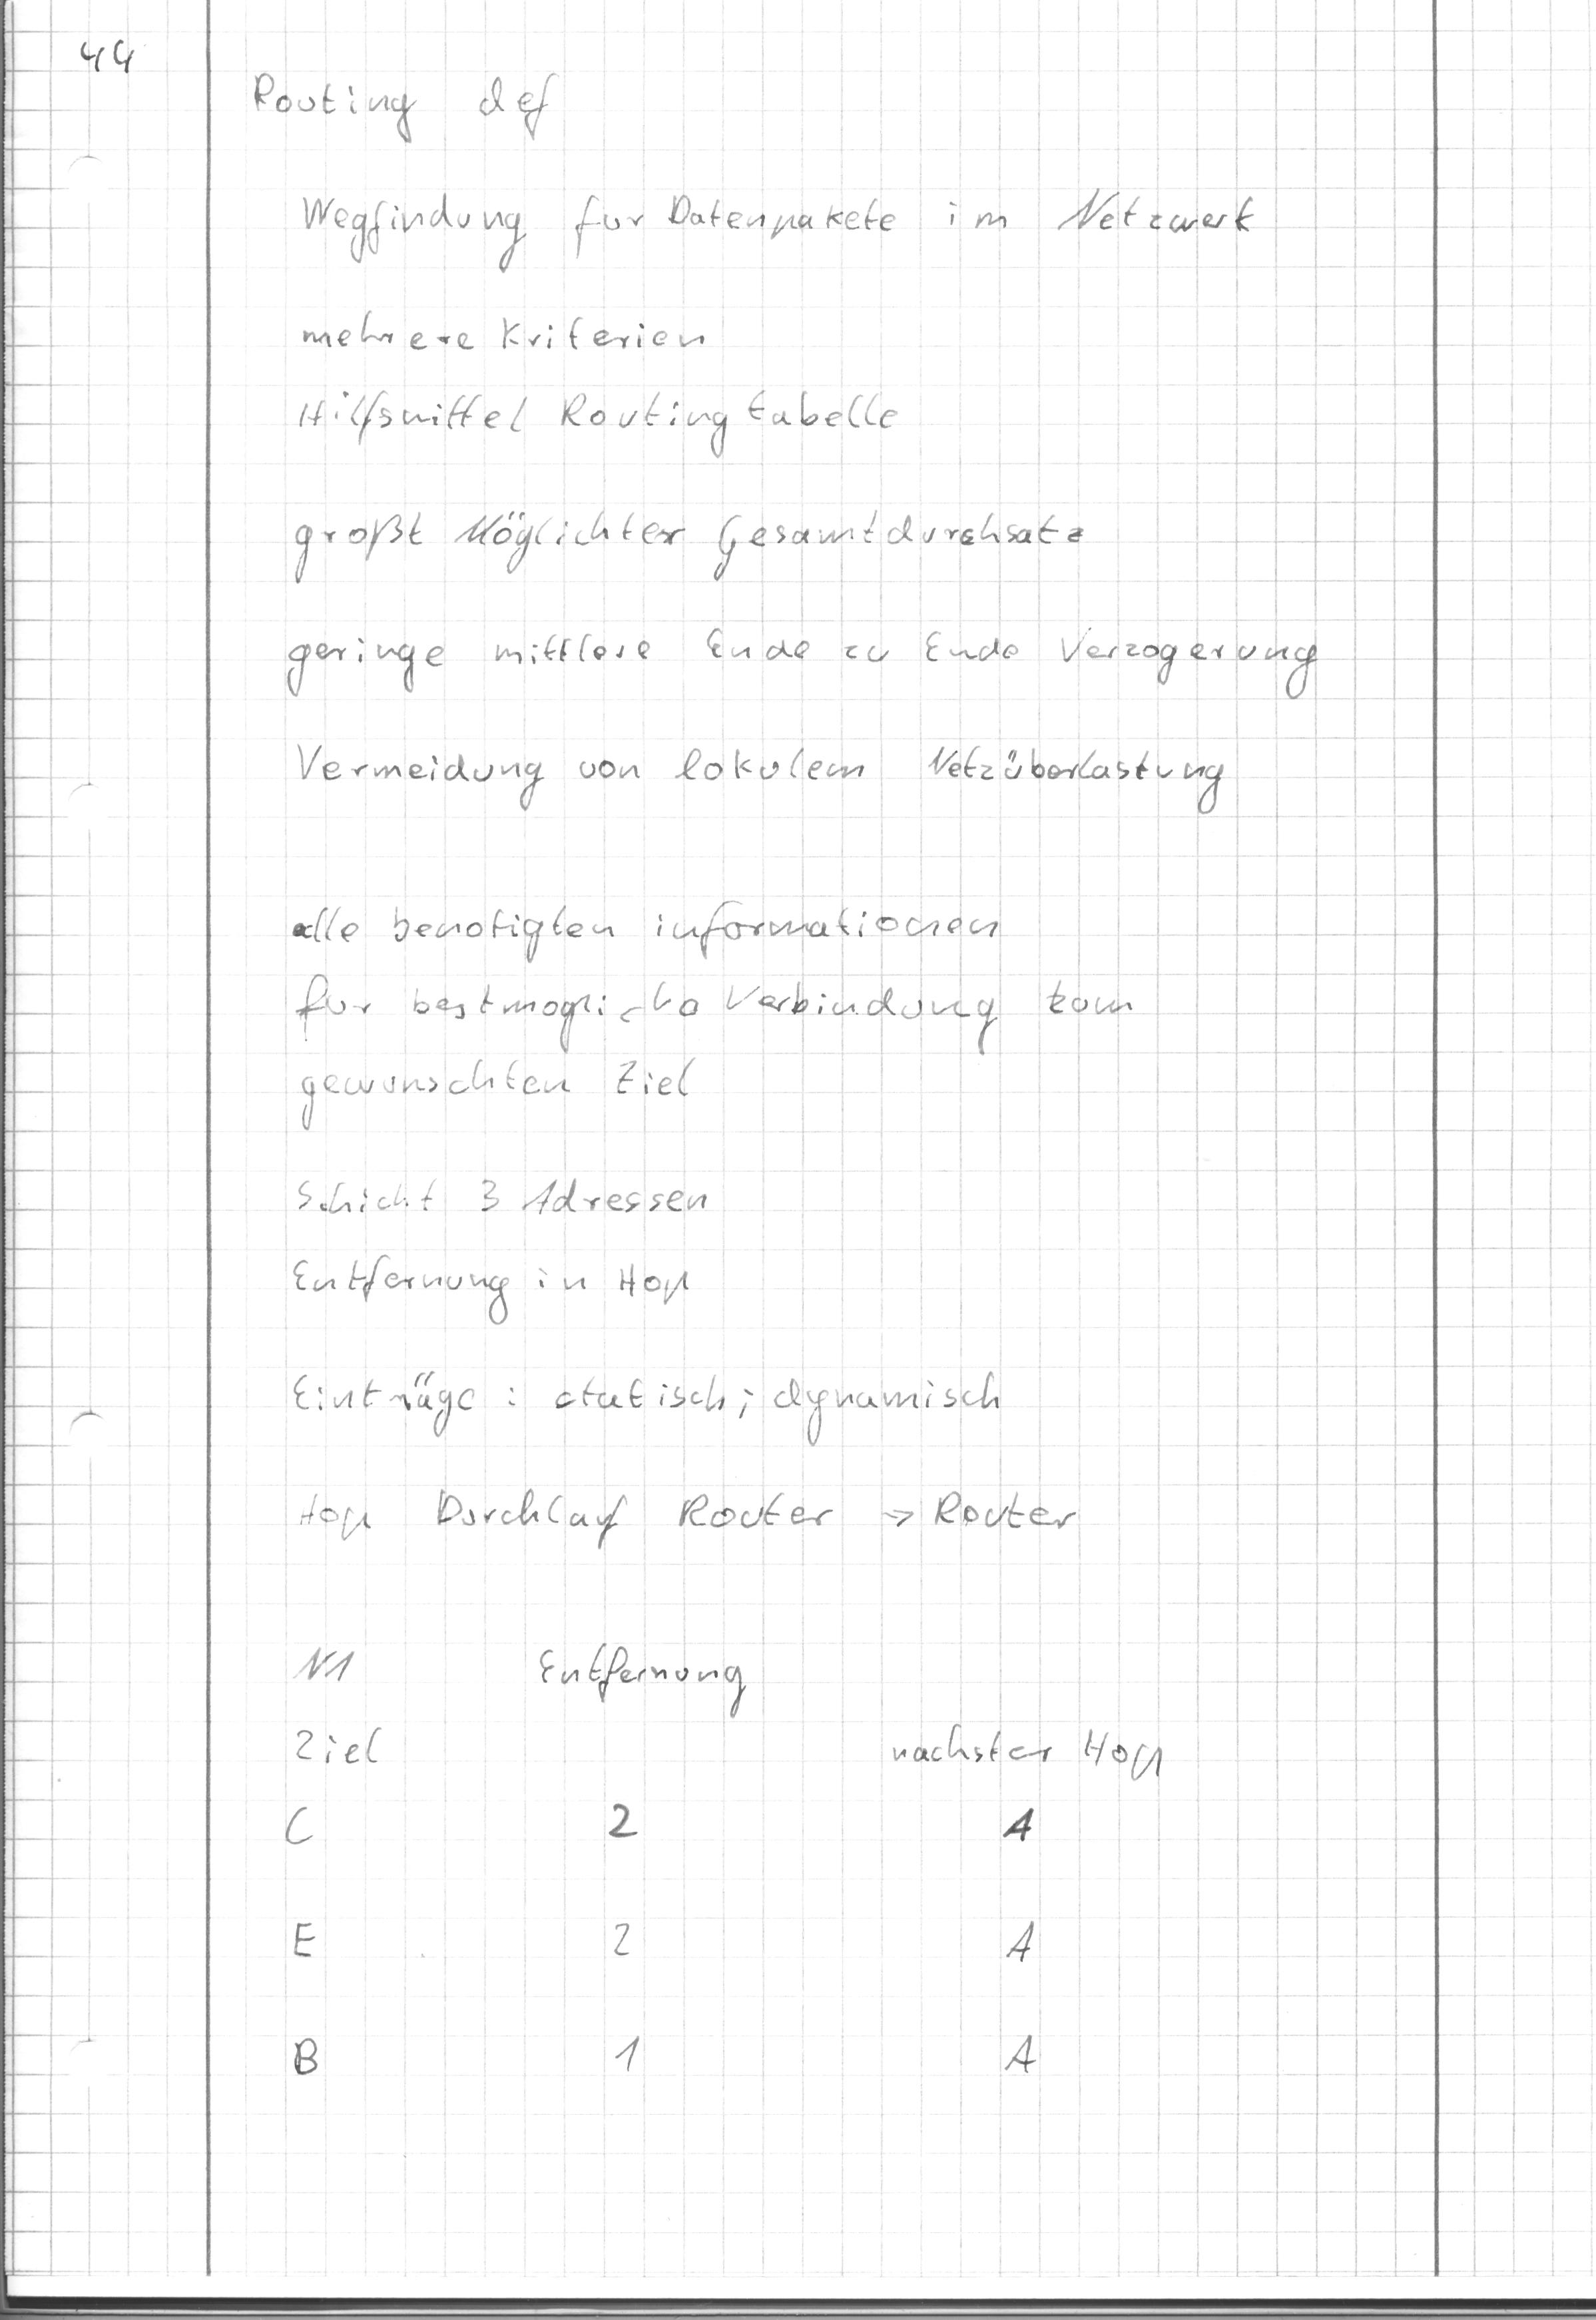word: (277, 615, 1324, 831), (280, 896, 1137, 1136), (286, 1360, 1094, 1562), (290, 170, 1260, 294), (887, 1714, 1171, 2089), (529, 1635, 754, 2092), (292, 308, 909, 465), (280, 490, 1102, 592), (274, 1158, 717, 1330), (256, 1629, 412, 2090), (233, 46, 571, 155)
